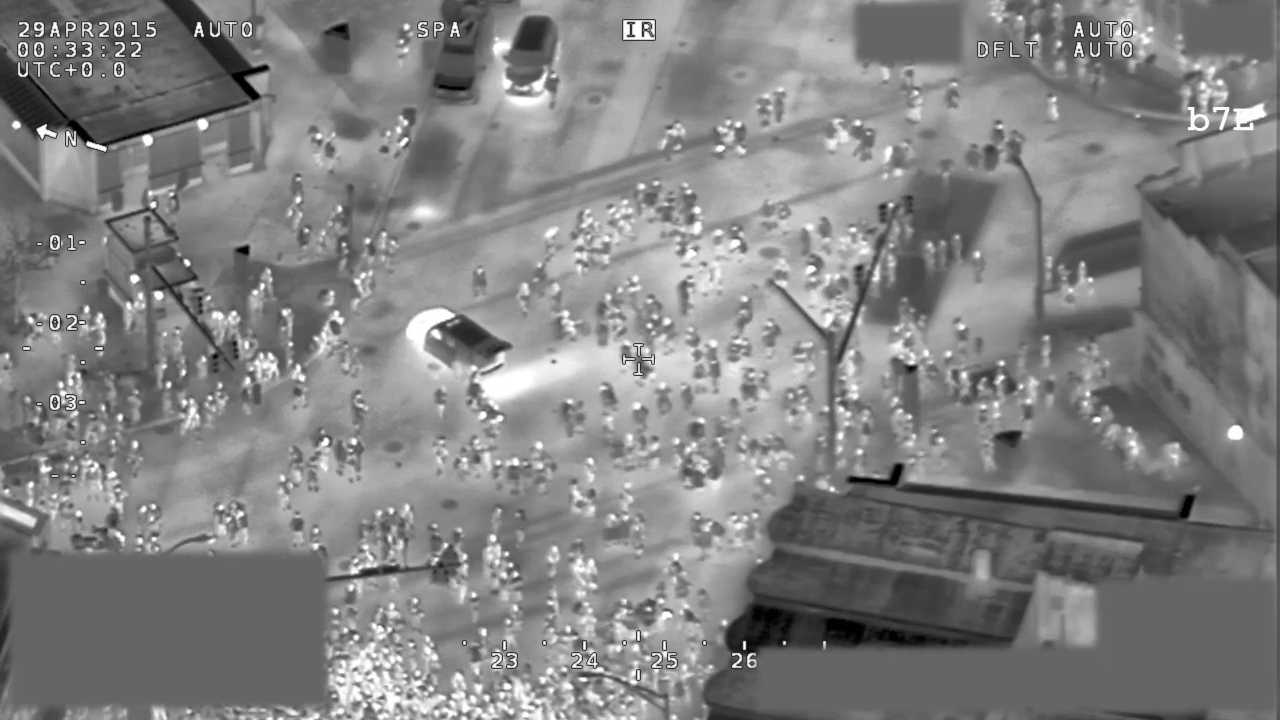vehicle: (399, 298, 518, 383), (421, 1, 493, 111), (498, 10, 565, 105)
